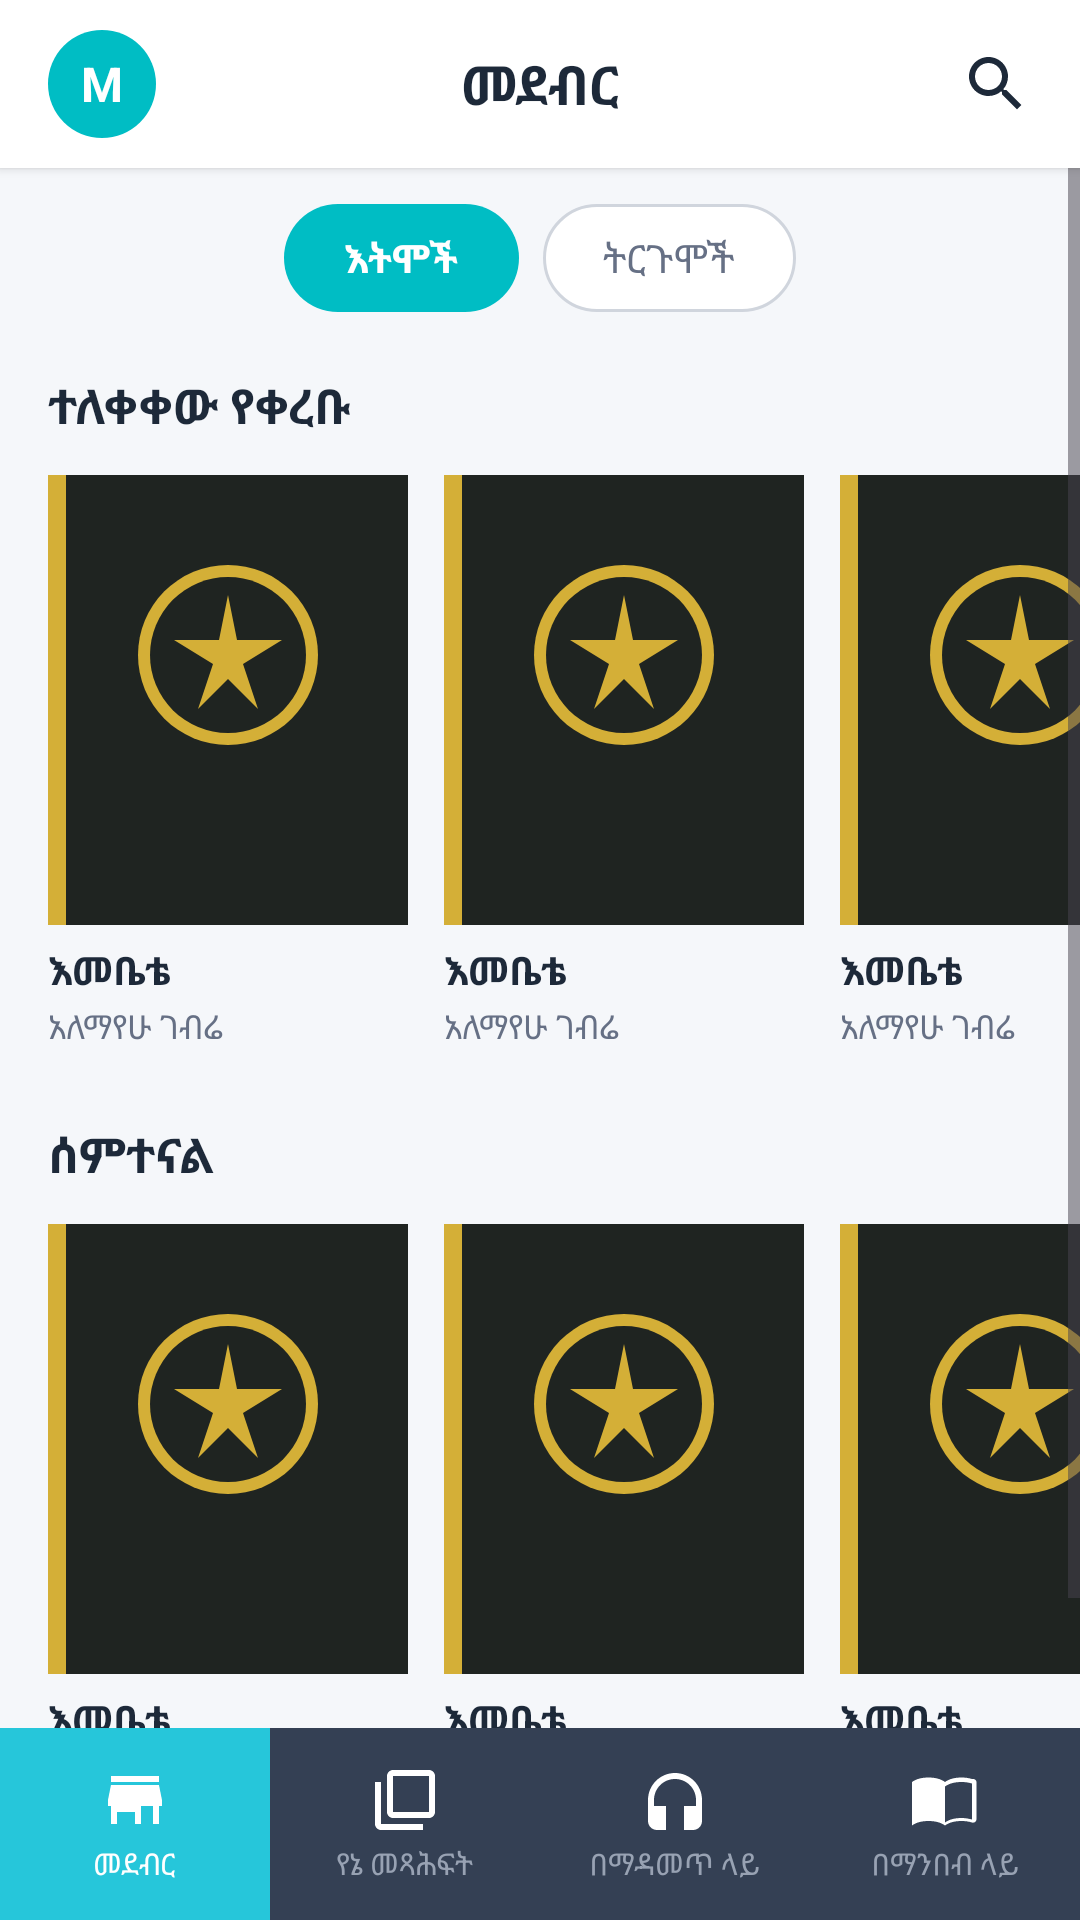

Where to tap for icons on this 1080x1920 app screen, as (x,y):
ይፈልጉ: (995,83)
